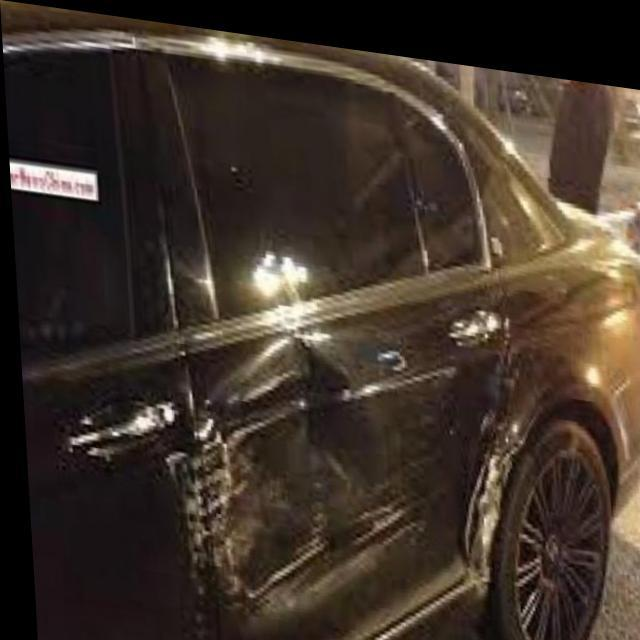dent: (169, 300, 533, 640)
